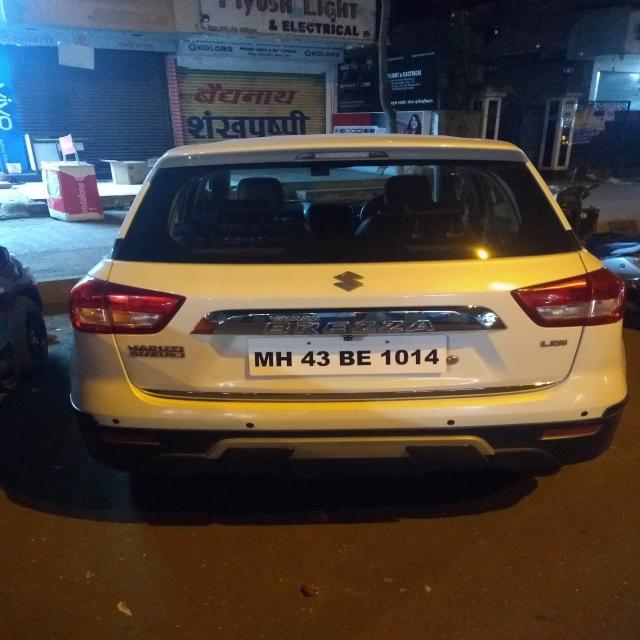Number-Plate: (242, 337, 455, 375)
